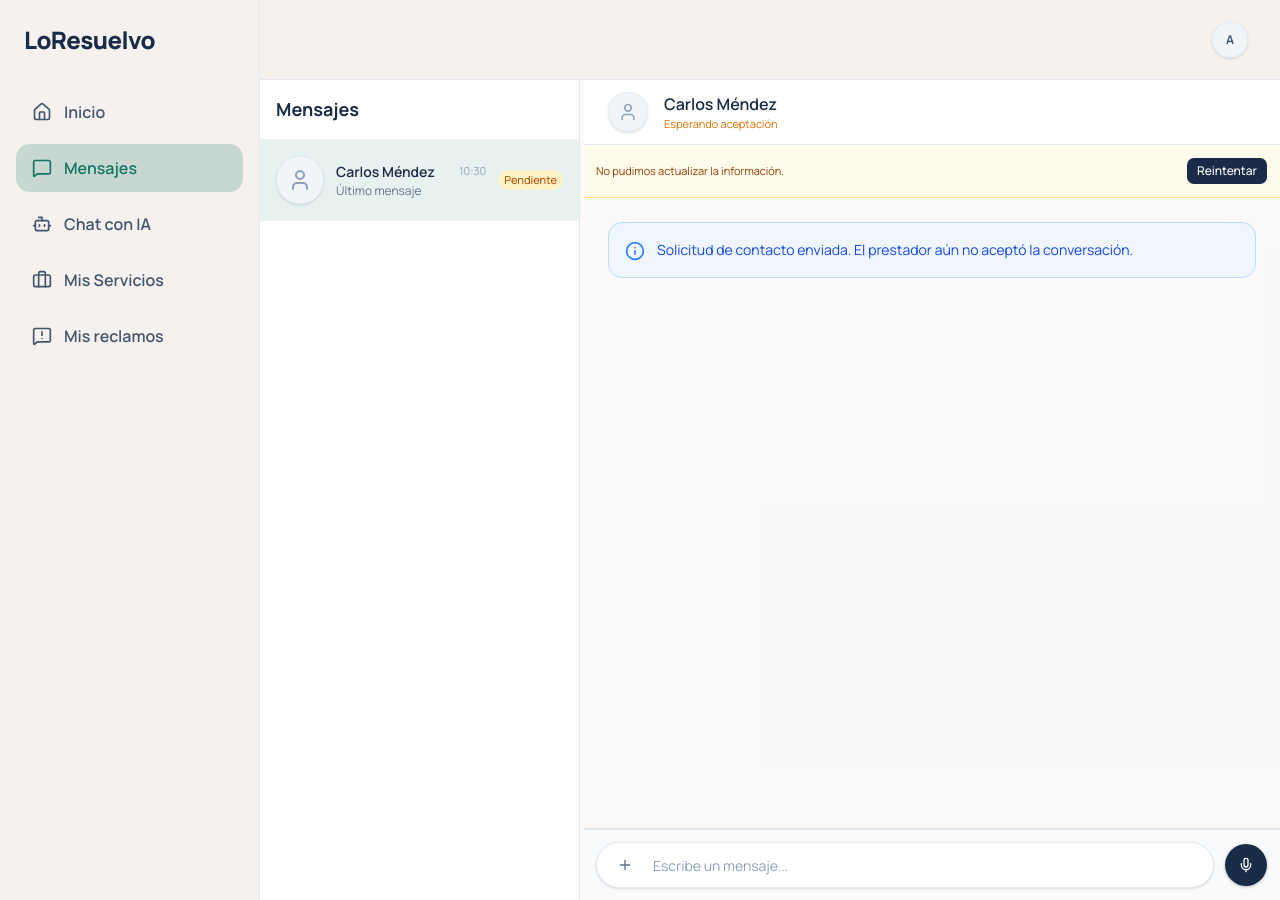
ConsumerMessagesClient › shows a related-data error and retries loading proposals for the selected contact
The width and height of the screenshot is (1280, 900).
Check: the message "No pudimos actualizar la información. Reintentar" is shown, box [584,145,1279,198]
Step 1. Click the button "Reintentar" → x=1227, y=171, box [1186,157,1268,185]
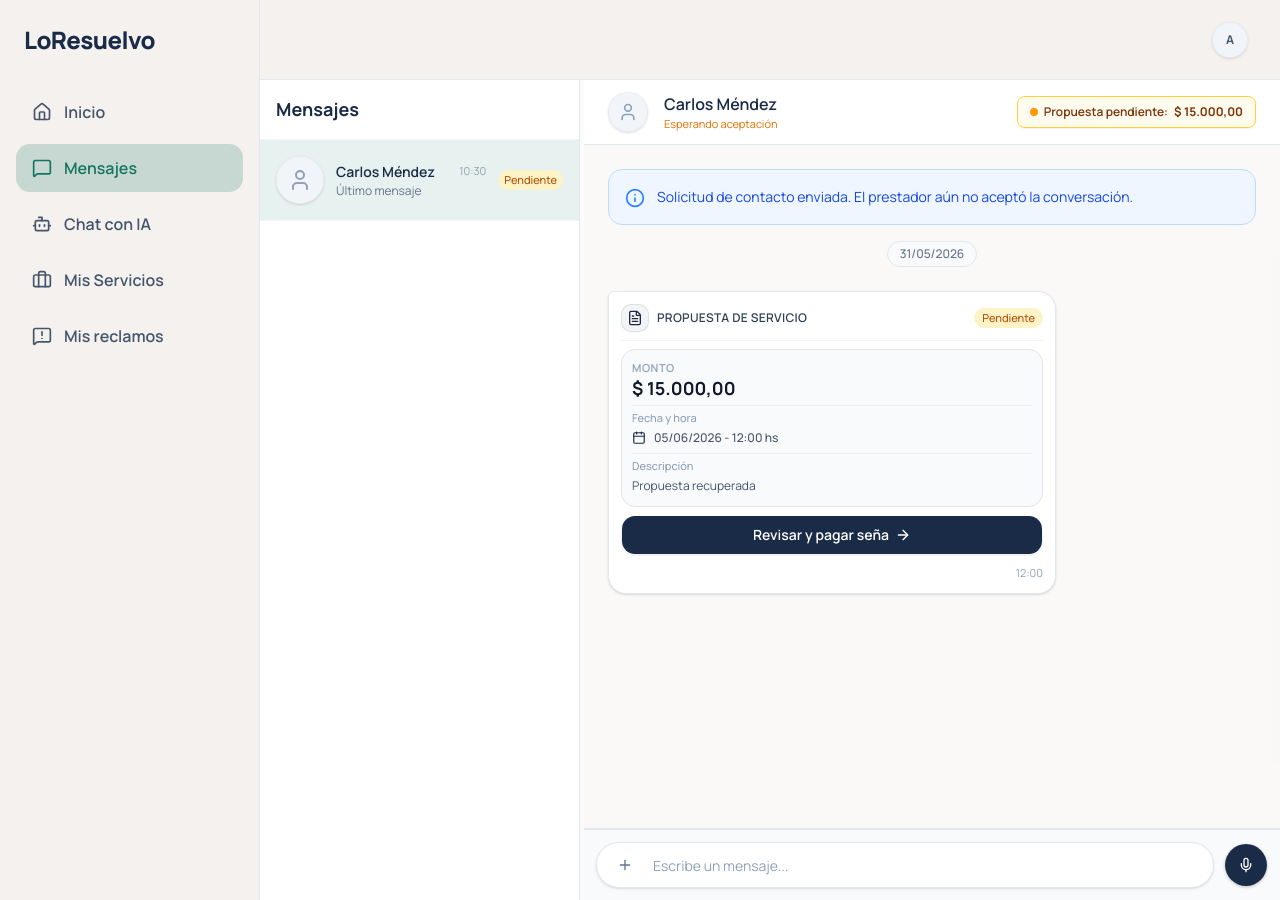
Check: the element with test id "service-proposal-panel" shows "Propuesta recuperada", box [632,477,756,494]
Check: the message with test id "related-data-refresh-error" is gone
